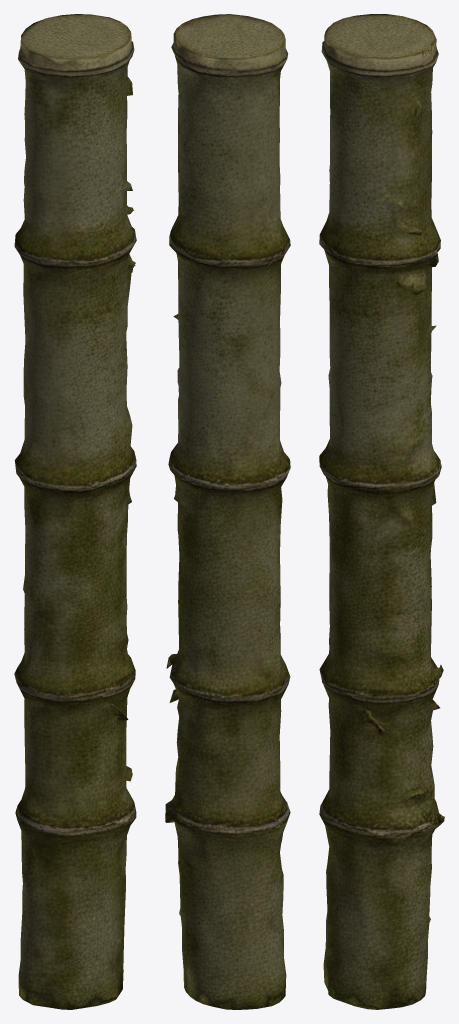
Rendered from bamboo-culm.glb.
The picture shows the model from 3 angles, left to right: view 1: azimuth 30°, elevation 25°; view 2: azimuth 150°, elevation 25°; view 3: azimuth 330°, elevation 25°; orthographic projection.
Visible parts, largest first — view 1: tripo_node_82ea9ea8-bfe4-479b-85bd-48143ca6d045; view 2: tripo_node_82ea9ea8-bfe4-479b-85bd-48143ca6d045; view 3: tripo_node_82ea9ea8-bfe4-479b-85bd-48143ca6d045.
Part boxes in pixels (bbox=[...]): tripo_node_82ea9ea8-bfe4-479b-85bd-48143ca6d045: bbox=[14, 14, 136, 1009]; tripo_node_82ea9ea8-bfe4-479b-85bd-48143ca6d045: bbox=[165, 14, 290, 1009]; tripo_node_82ea9ea8-bfe4-479b-85bd-48143ca6d045: bbox=[319, 14, 444, 1009].
Bounding box in the file's own units: 0.1222 × 1 × 0.1111.
Materials: 1 (1 with a texture image).
